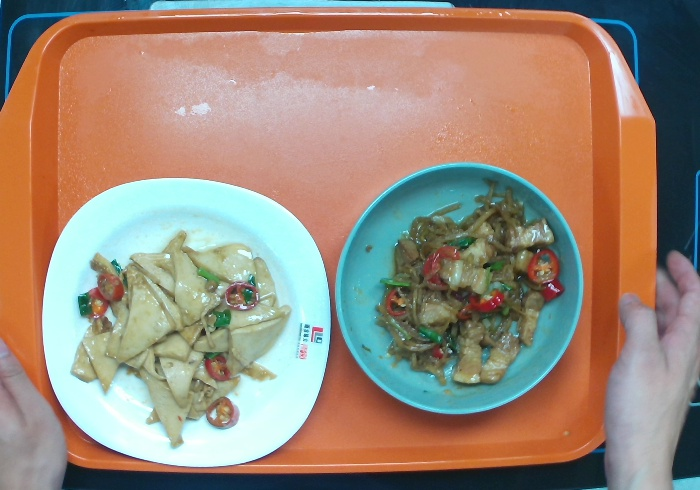ZNLD-Qing_Hua_Yuan_Wan: (335, 160, 583, 417)
ZNLD-Yuan_Jiao_Pan: (43, 178, 331, 467)
